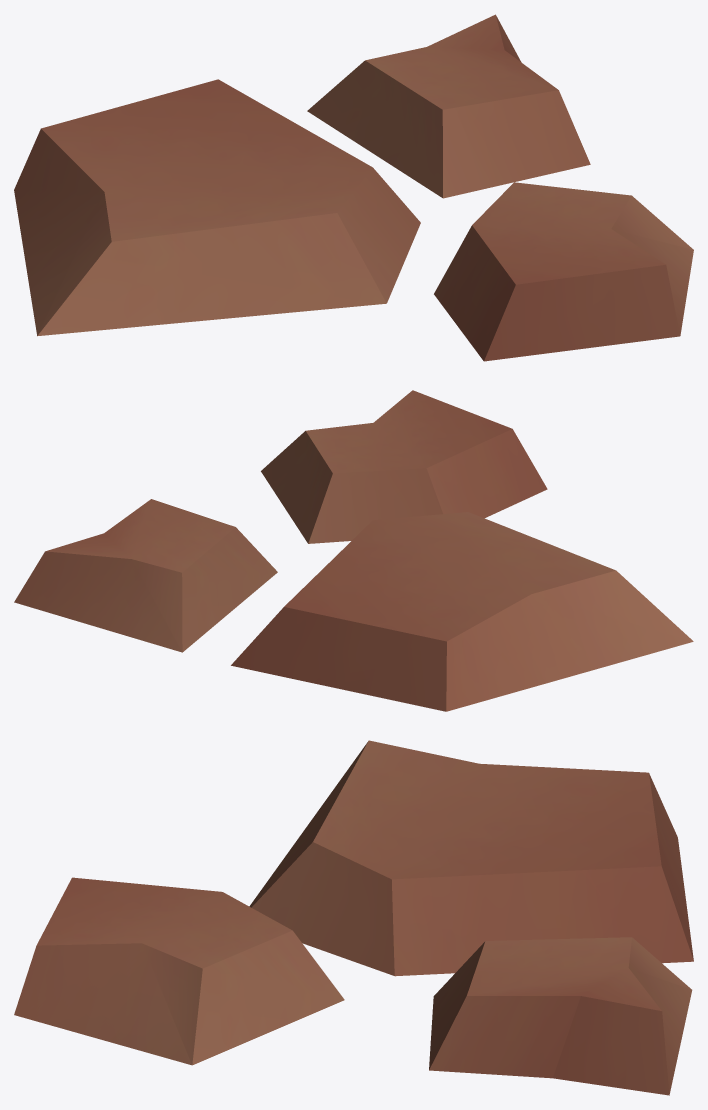
File: flat_rockb_dry.FBX
3 renders of one model, top to bottom at view 1: azimuth 30°, elevation 25°; view 2: azimuth 150°, elevation 25°; view 3: azimuth 270°, elevation 25°, orthographic. The views are drawn at different scales.
Visible parts, largest first — view 1: dry_flat_rockb; view 2: dry_flat_rockb; view 3: dry_flat_rockb.
Boxes of the visible parts, x1,y1,x2,y2 form: dry_flat_rockb: [14, 14, 693, 361]; dry_flat_rockb: [14, 390, 693, 711]; dry_flat_rockb: [14, 740, 693, 1095].
Bounding box in the file's own units: 3.6 × 0.3685 × 3.17.
